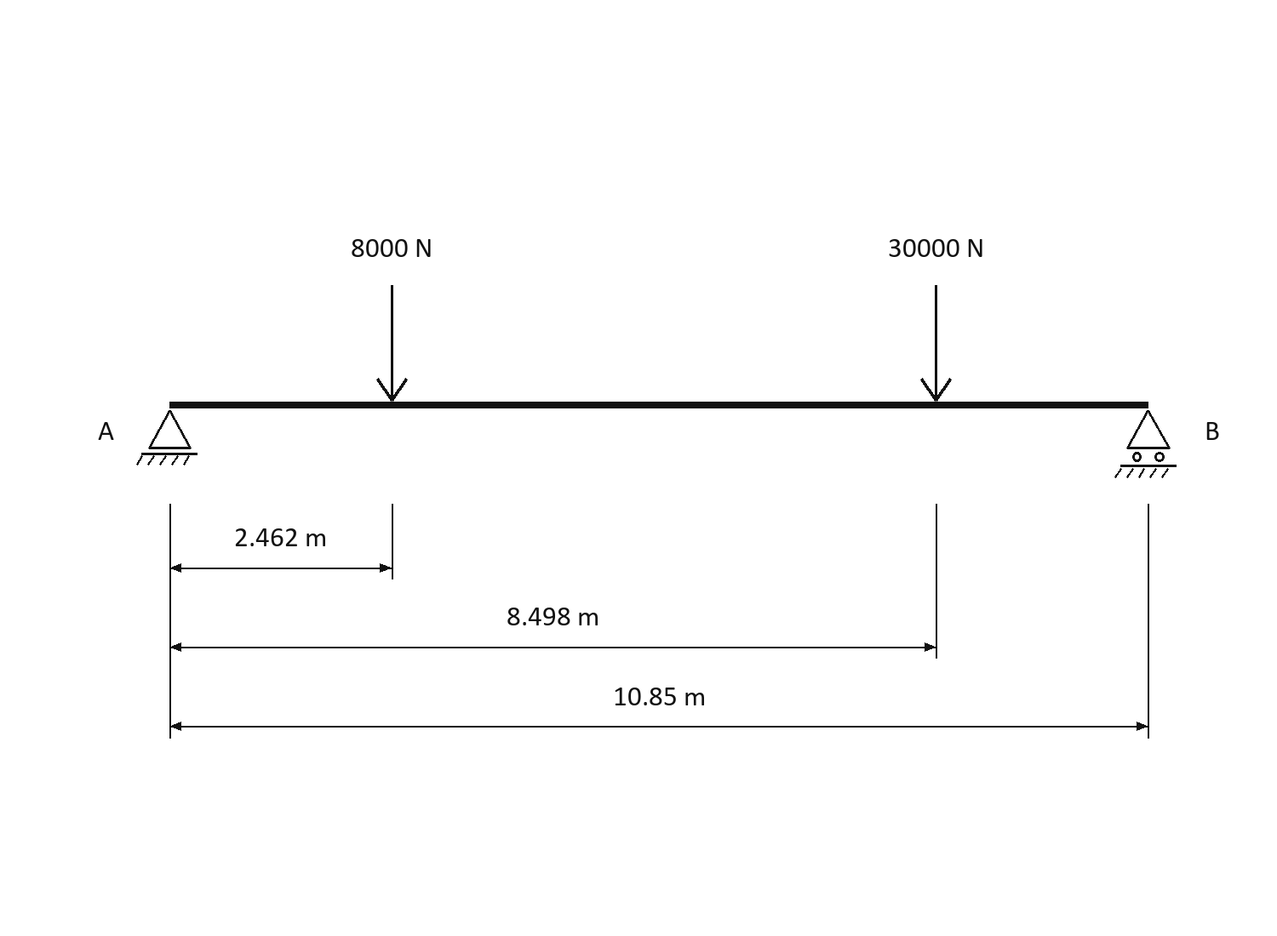pin_support: (136, 410, 198, 465)
point_load: (376, 285, 408, 402), (920, 285, 952, 402)
roller_support: (1114, 410, 1177, 478)
